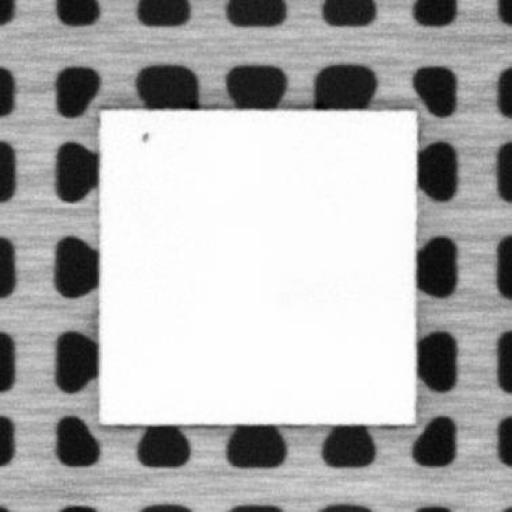DIE_INK: (138, 127, 150, 142)
